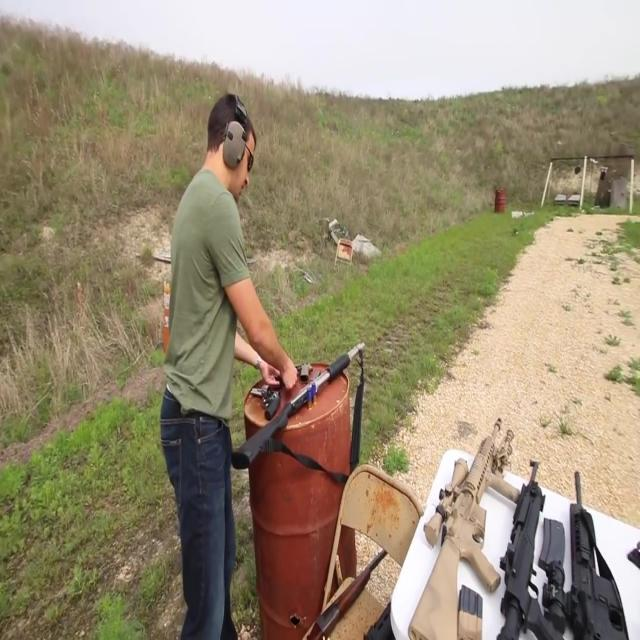Weapon: (408, 397, 635, 640), (224, 328, 377, 476), (275, 540, 400, 640)
